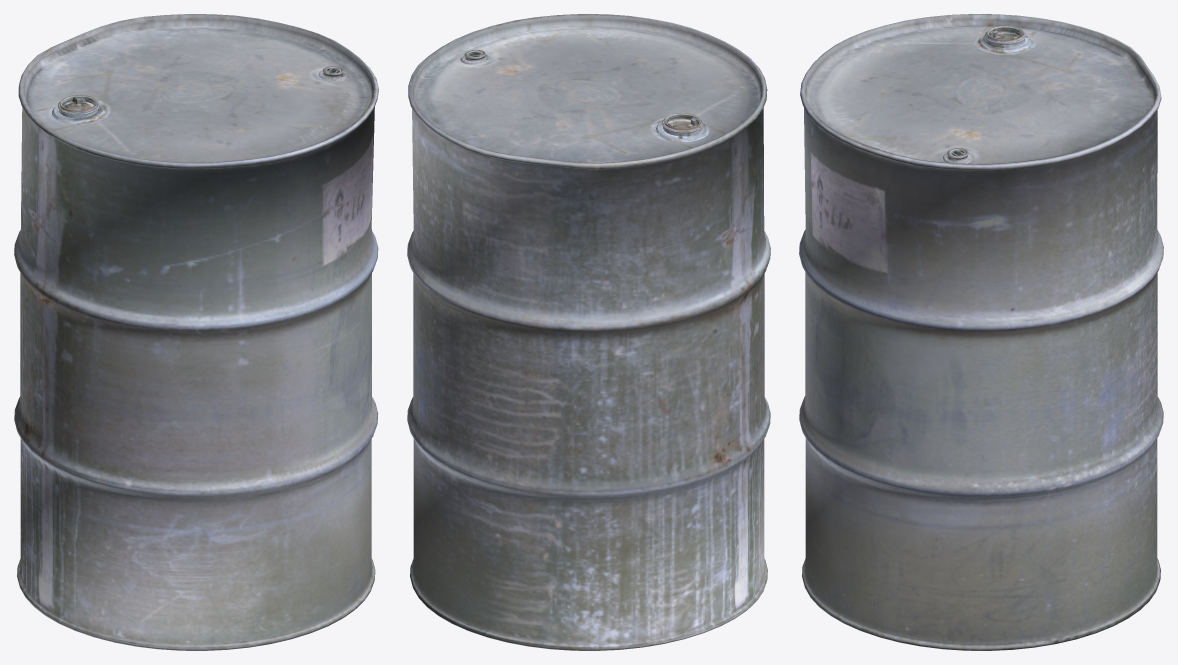
The model's file is DrunCan.fbx.
3 views of the same model, side by side, from view 1: azimuth 30°, elevation 25°; view 2: azimuth 150°, elevation 25°; view 3: azimuth 270°, elevation 25° (orthographic).
Parts seen in each view (by area): view 1: plechovy_sud_1_low; view 2: plechovy_sud_1_low; view 3: plechovy_sud_1_low.
Part boxes in pixels (<box>): plechovy_sud_1_low: <box>14,14,378,650</box>; plechovy_sud_1_low: <box>407,14,770,650</box>; plechovy_sud_1_low: <box>799,14,1163,650</box>.
Size of the model in its own units: 1.8 by 2.67 by 1.8.
